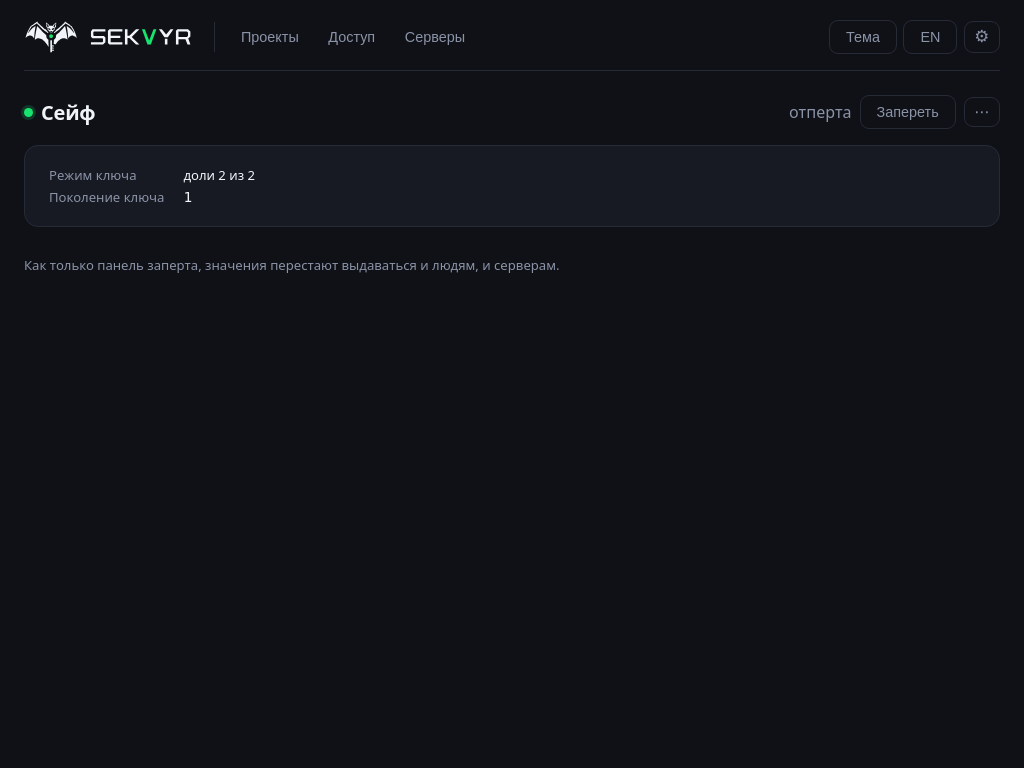
двухшаговая смена ключа › показывает и копирует ключ, отмена не отправляет запрос смены
This screenshot has width=1024, height=768.
Expected: the button "Запереть" is shown, [860, 95, 956, 129]
Step 1. Click the button named "Меню" → (982, 112), box [964, 97, 1000, 127]
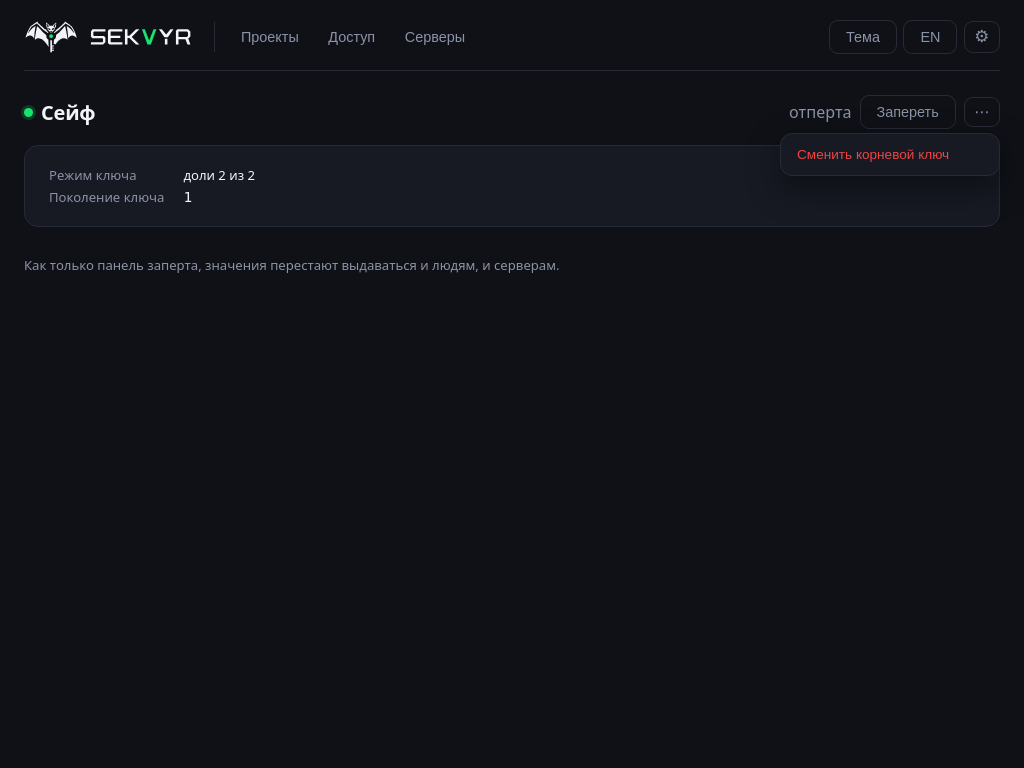
Step 2. Click the button "Сменить корневой ключ" → (890, 154), box [786, 139, 994, 170]
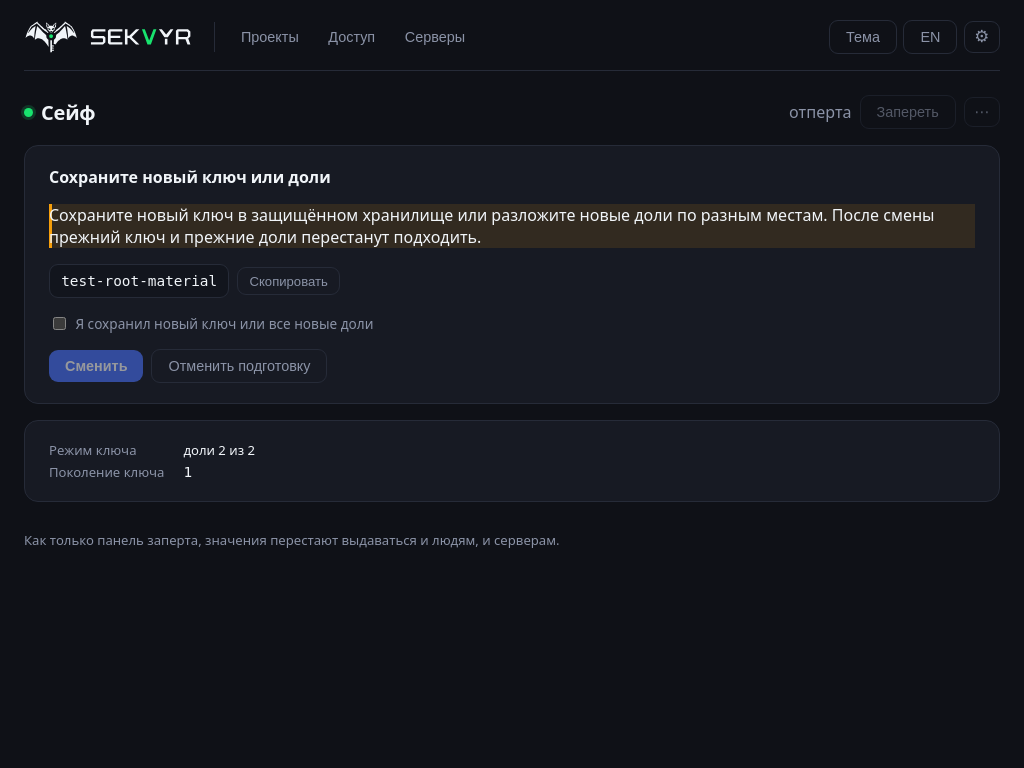
Now the button "Сменить" is disabled, box [49, 350, 144, 382]
Now the heading "Сохраните новый ключ или доли" is shown, box [49, 166, 331, 188]
Now the text "test-root-material" is shown, box [49, 264, 229, 298]
Step 3. Click the button "Скопировать" → (289, 281), box [237, 267, 340, 295]
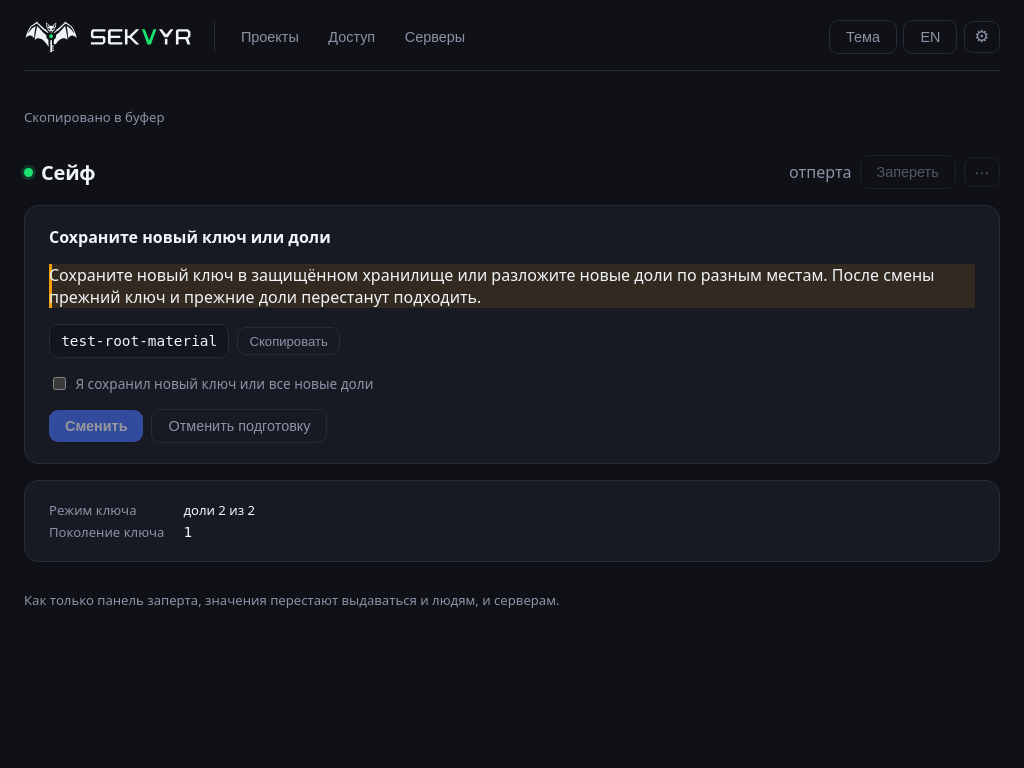
Step 4. Click the button "Отменить подготовку" → (240, 426), box [152, 409, 328, 443]
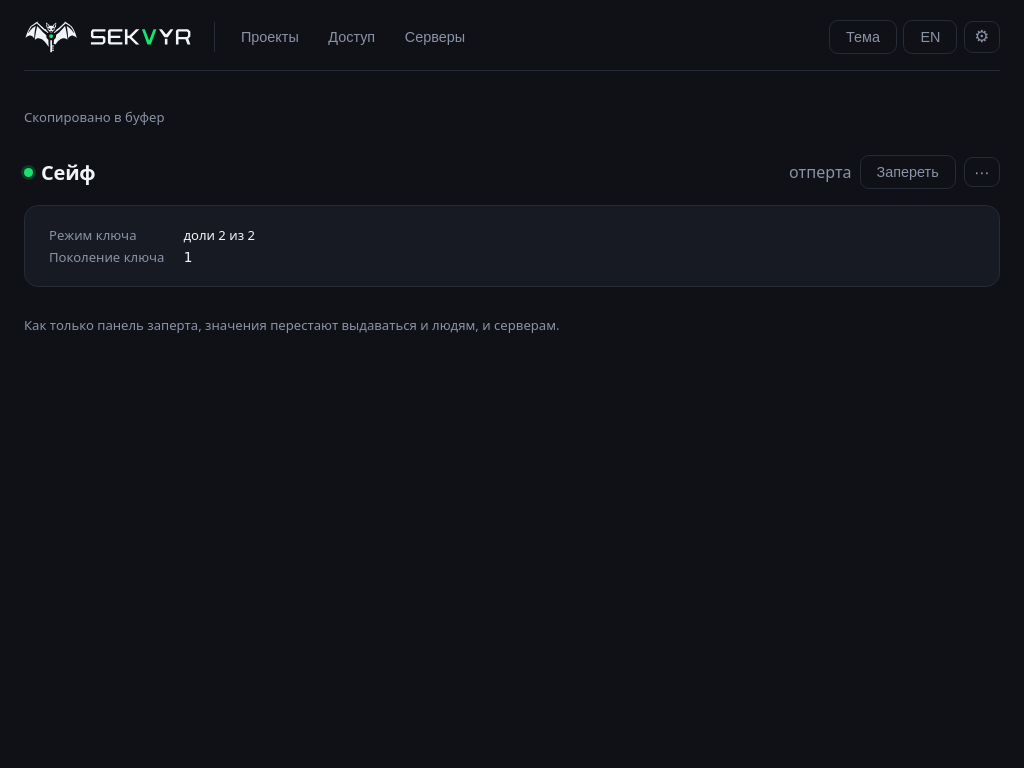
Expected: the button named "Меню" is enabled, [964, 157, 1000, 187]
Now the text "test-root-material" is gone
